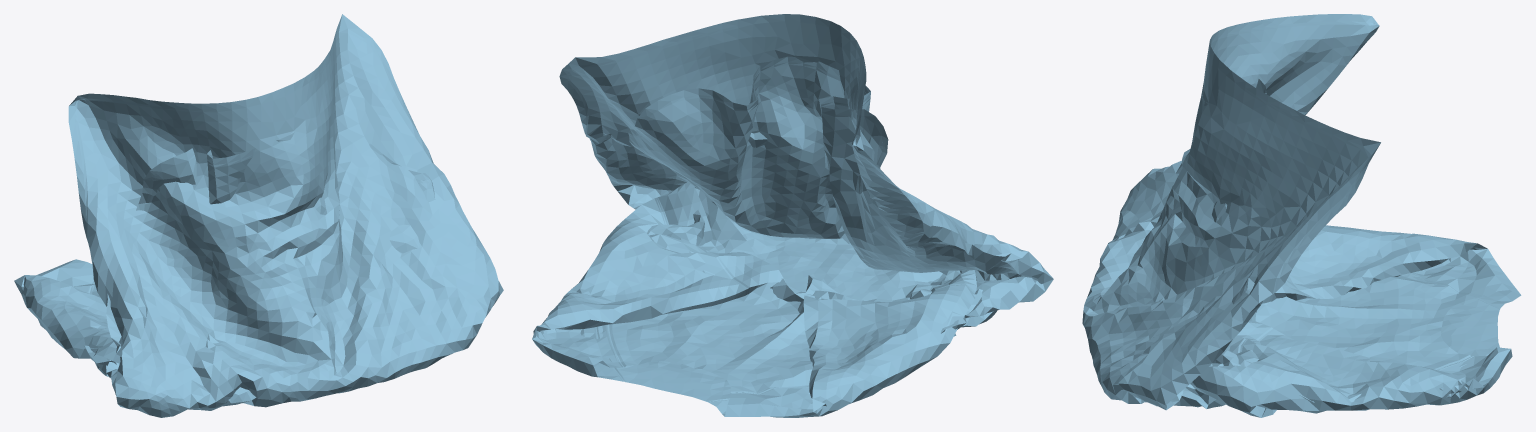
The model's file is frame_16.glb.
The picture shows the model from 3 angles, left to right: view 1: azimuth 30°, elevation 25°; view 2: azimuth 150°, elevation 25°; view 3: azimuth 270°, elevation 25°; orthographic projection. The views are drawn at different scales.
Visible parts, largest first — view 1: frame_16.obj; view 2: frame_16.obj; view 3: frame_16.obj.
Part boxes in pixels (<box>): frame_16.obj: <box>14,14,503,417</box>; frame_16.obj: <box>532,14,1053,417</box>; frame_16.obj: <box>1082,14,1521,417</box>.
Bounding box in the file's own units: 1.16 × 0.7501 × 1.03.
